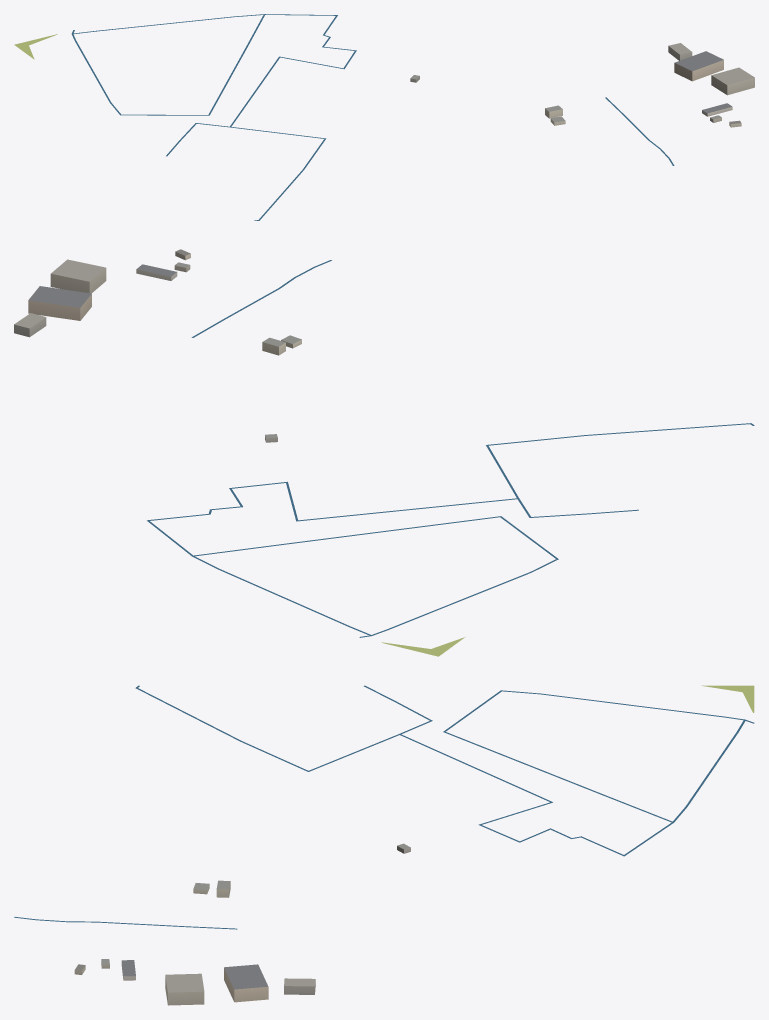
3 views of the same model, one above another, from view 1: azimuth 30°, elevation 25°; view 2: azimuth 150°, elevation 25°; view 3: azimuth 270°, elevation 25° (orthographic). The views are drawn at different scales.
Parts seen in each view (by area): view 1: water, buildings_walls, buildings_roofs; view 2: water, buildings_walls, buildings_roofs; view 3: water, buildings_roofs, buildings_walls.
Part boxes in pixels (x1=…): water: x1=71, y1=14, x2=674, y2=220; buildings_walls: x1=410, y1=46, x2=754, y2=127; buildings_roofs: x1=411, y1=43, x2=754, y2=124; water: x1=147, y1=260, x2=754, y2=637; buildings_walls: x1=14, y1=251, x2=301, y2=442; buildings_roofs: x1=14, y1=249, x2=301, y2=438; water: x1=14, y1=685, x2=754, y2=929; buildings_roofs: x1=75, y1=843, x2=410, y2=992; buildings_walls: x1=74, y1=846, x2=410, y2=1005.
Size of the model in its own units: 512 by 9.6 by 501.
